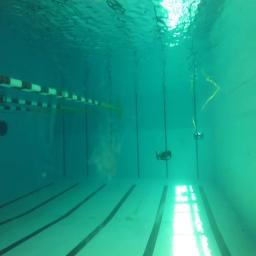Full: (156, 150, 173, 160), (194, 132, 204, 138)
